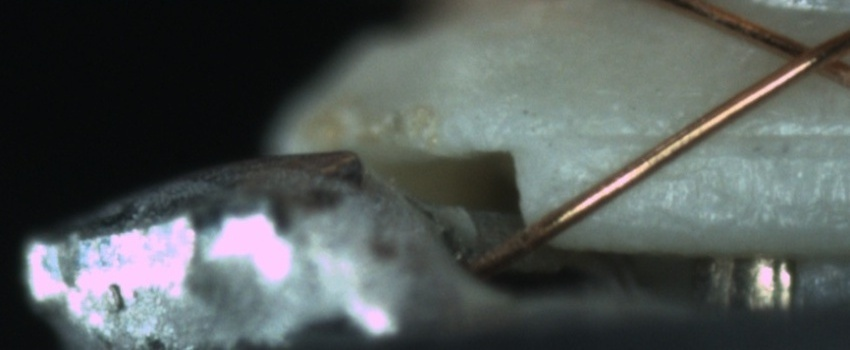CL: (765, 25, 845, 86)
DL: (576, 106, 845, 172)
